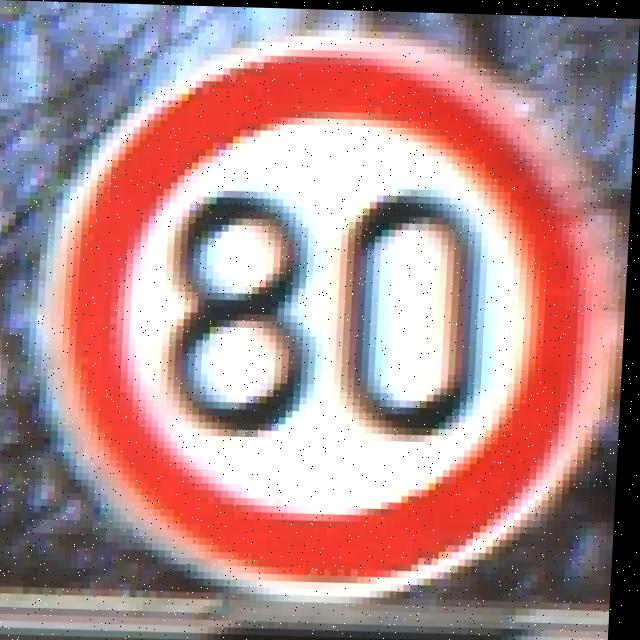speed_limit_80: (59, 50, 631, 601)
